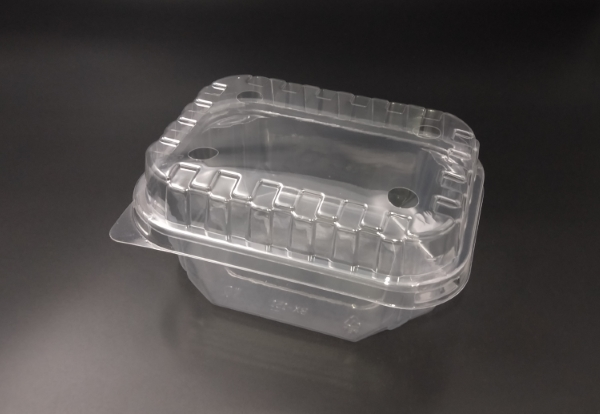PlasticBox: (105, 69, 487, 347)
